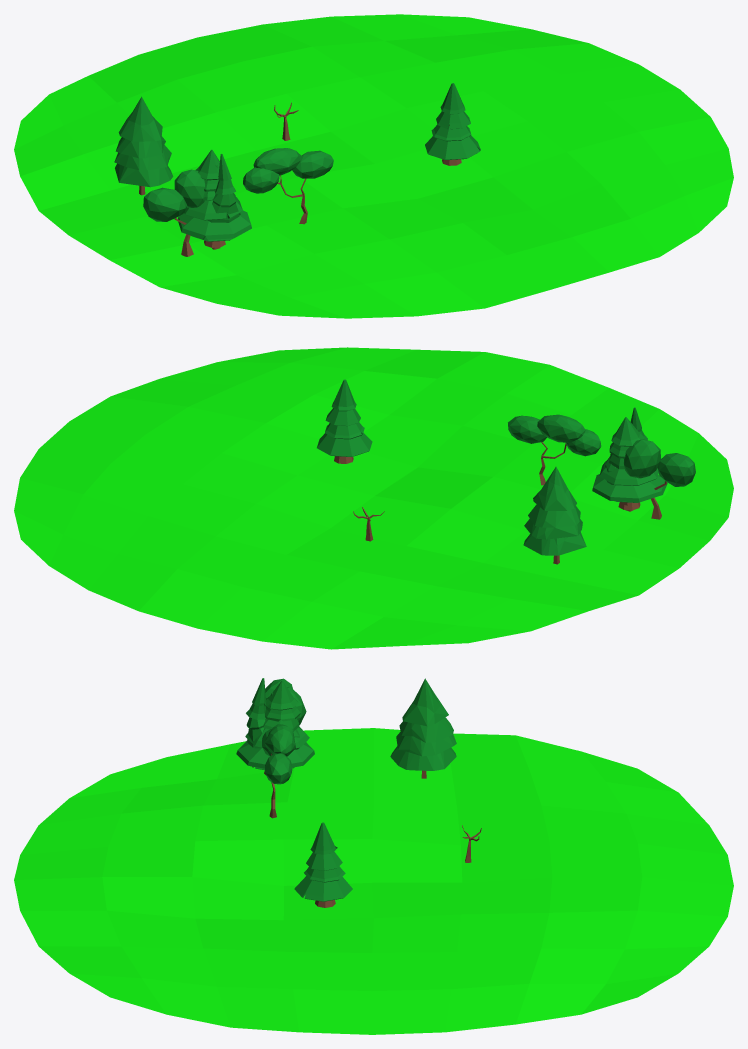
The model's file is Ground.glb.
3 views of the same model, one above another, from view 1: azimuth 30°, elevation 25°; view 2: azimuth 150°, elevation 25°; view 3: azimuth 270°, elevation 25° (orthographic). The views are drawn at different scales.
Visible parts, largest first — view 1: Plane, Pine tree 1, Pine tree 3, Tree Stump 4, Pine tree 4, Tree Stump 3, Pine tree 2; view 2: Plane, Pine tree 1, Pine tree 3, Tree Stump 4, Pine tree 4, Tree Stump 3; view 3: Plane, Pine tree 1, Pine tree 4, Pine tree 3, Tree Stump 4, Pine tree 2.
Boxes of the visible parts, x1,y1,x2,y2 form: Plane: [14, 14, 733, 318]; Pine tree 1: [114, 96, 173, 195]; Pine tree 3: [178, 149, 251, 247]; Tree Stump 4: [243, 148, 333, 224]; Pine tree 4: [425, 83, 480, 165]; Tree Stump 3: [143, 169, 206, 256]; Pine tree 2: [208, 154, 240, 222]; Plane: [14, 347, 733, 649]; Pine tree 1: [523, 466, 586, 564]; Pine tree 3: [592, 417, 667, 510]; Tree Stump 4: [508, 414, 601, 485]; Pine tree 4: [317, 379, 372, 463]; Tree Stump 3: [605, 439, 695, 519]; Plane: [14, 728, 733, 1034]; Pine tree 1: [390, 678, 456, 778]; Pine tree 4: [294, 822, 352, 907]; Pine tree 3: [236, 680, 314, 775]; Tree Stump 4: [262, 724, 295, 818]; Pine tree 2: [246, 678, 266, 748].
Bounding box in the file's own units: 795 × 128 × 795.
